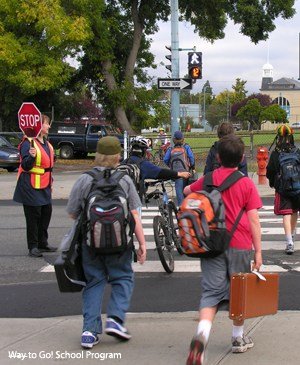pedestrian: (175, 133, 259, 365), (62, 137, 138, 347), (264, 122, 300, 254)
